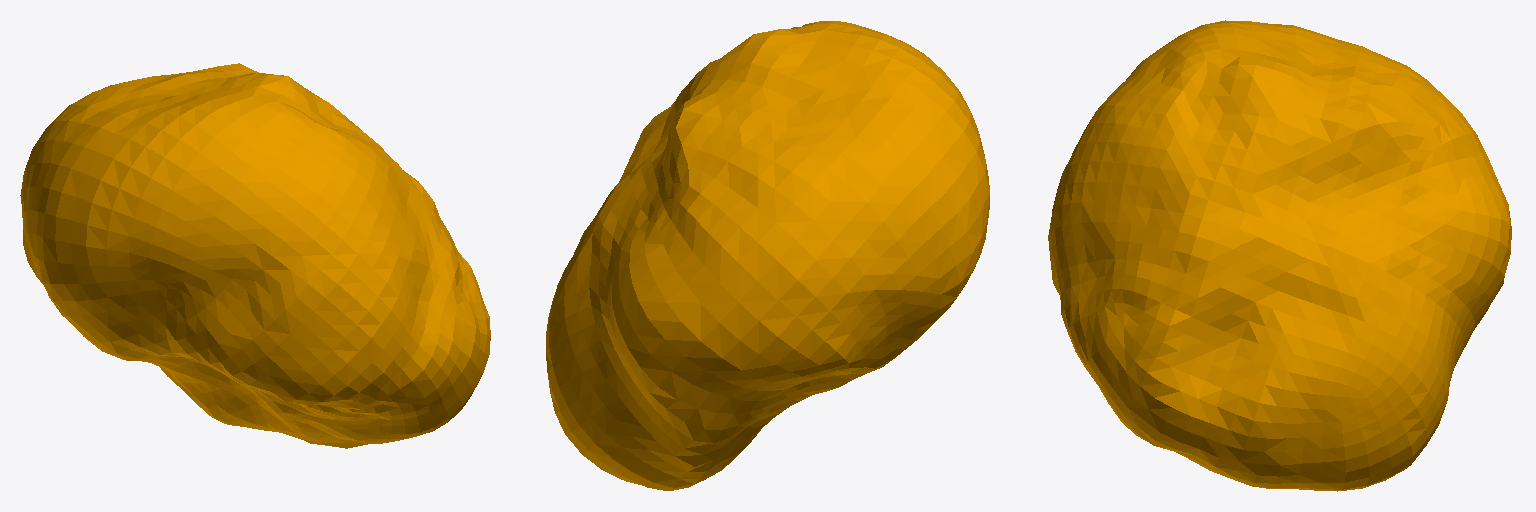
The robot description file, URDF, robot "rock":
<?xml version="1.0" ?>
<robot name="rock">
  <link name="rock">
    <inertial>
      <mass value="0.318"/>
      <origin rpy="0 0 0" xyz="0 0 0"/>
      <inertia ixx="0.000318" ixy="0" ixz="0" iyy="0.000318" iyz="0" izz="0.000318"/>
    </inertial>
    <collision name="rock_collision">
      <origin rpy="0 0 0" xyz="0 0 0"/>
      <geometry>
        <mesh filename="package://rocks/visual/58.dae" scale="1 1 1"/>
      </geometry>
    </collision>
    <visual name="rock_visual">
      <origin rpy="0 0 0" xyz="0 0 0"/>
      <geometry>
        <mesh filename="package://rocks/visual/58.dae" scale="1 1 1"/>
      </geometry>
    </visual>
  </link>
</robot>

--- Render facts (derived) ---
Views: 3 orthographic renders of the robot side by side, from view 1: azimuth 30°, elevation 25°; view 2: azimuth 150°, elevation 25°; view 3: azimuth 270°, elevation 25°.
Model rock with 1 links and 0 joints (none), rooted at rock, posed every joint at zero.
Links seen in each view (by area): view 1: rock; view 2: rock; view 3: rock.
Boxes of the visible links, x1,y1,x2,y2 form: rock: (20,63,490,448); rock: (546,21,989,490); rock: (1048,20,1511,491).
Bounding box of the posed robot: 0.0849 × 0.0905 × 0.0828 m (x, y, z).
1 mesh visuals loaded from 1 distinct referenced files (1 Collada DAE).